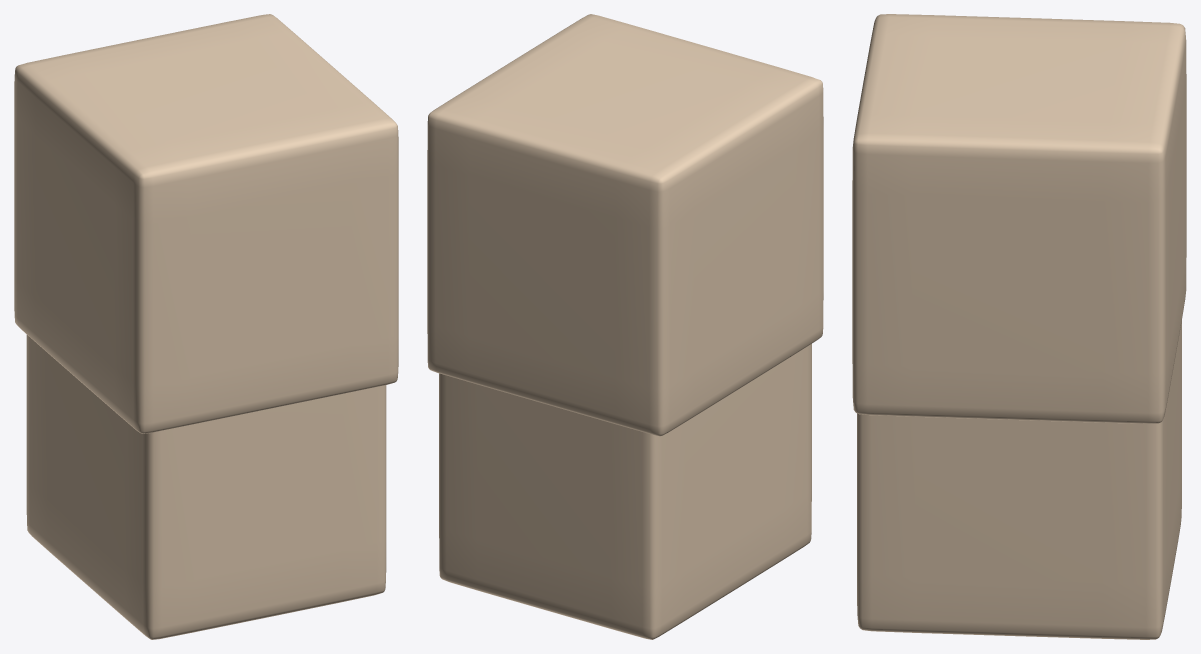
The model's file is PROP_FenceSegment_v1.glb.
3 views of the same model, side by side, from view 1: azimuth 30°, elevation 25°; view 2: azimuth 150°, elevation 25°; view 3: azimuth 270°, elevation 25° (orthographic). The views are drawn at different scales.
Visible parts, largest first — view 1: PROP_FenceSegment_v1; view 2: PROP_FenceSegment_v1; view 3: PROP_FenceSegment_v1.
Boxes of the visible parts, x1,y1,x2,y2 form: PROP_FenceSegment_v1: [14, 14, 398, 639]; PROP_FenceSegment_v1: [427, 14, 823, 639]; PROP_FenceSegment_v1: [852, 14, 1186, 639].
Size of the model in its own units: 1.1 by 1.86 by 1.12.
